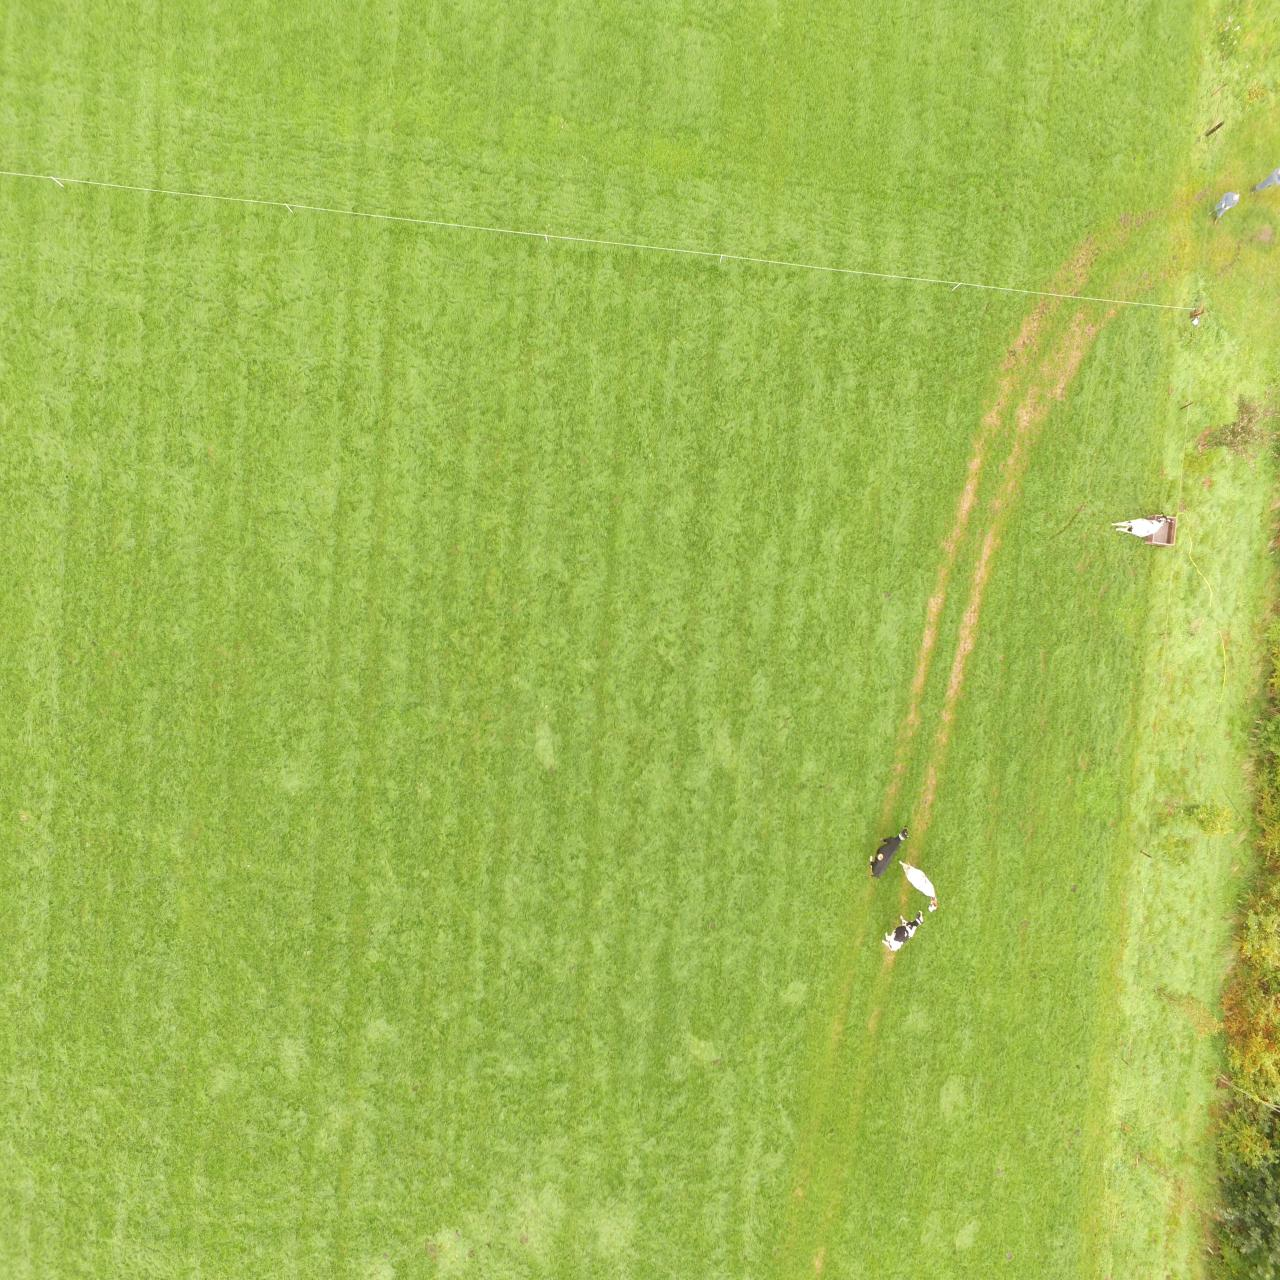cow: (898, 859, 940, 912), (870, 825, 910, 879), (881, 910, 923, 950), (1111, 512, 1167, 537)
